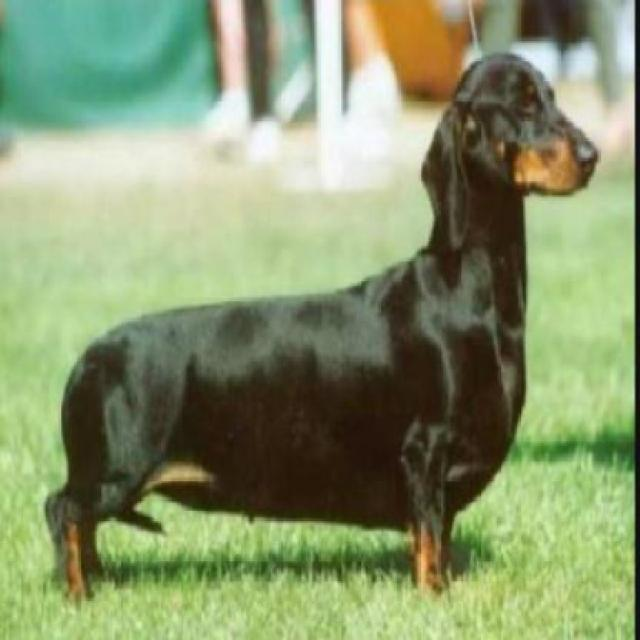Dog: (41, 40, 602, 612)
